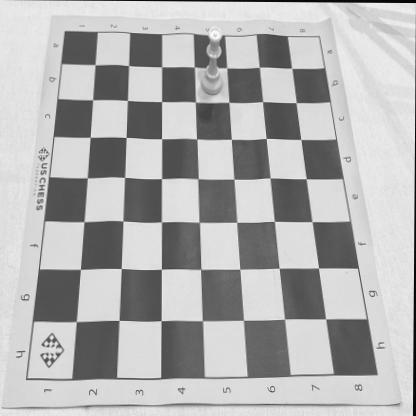white-queen: (200, 26, 223, 96)
